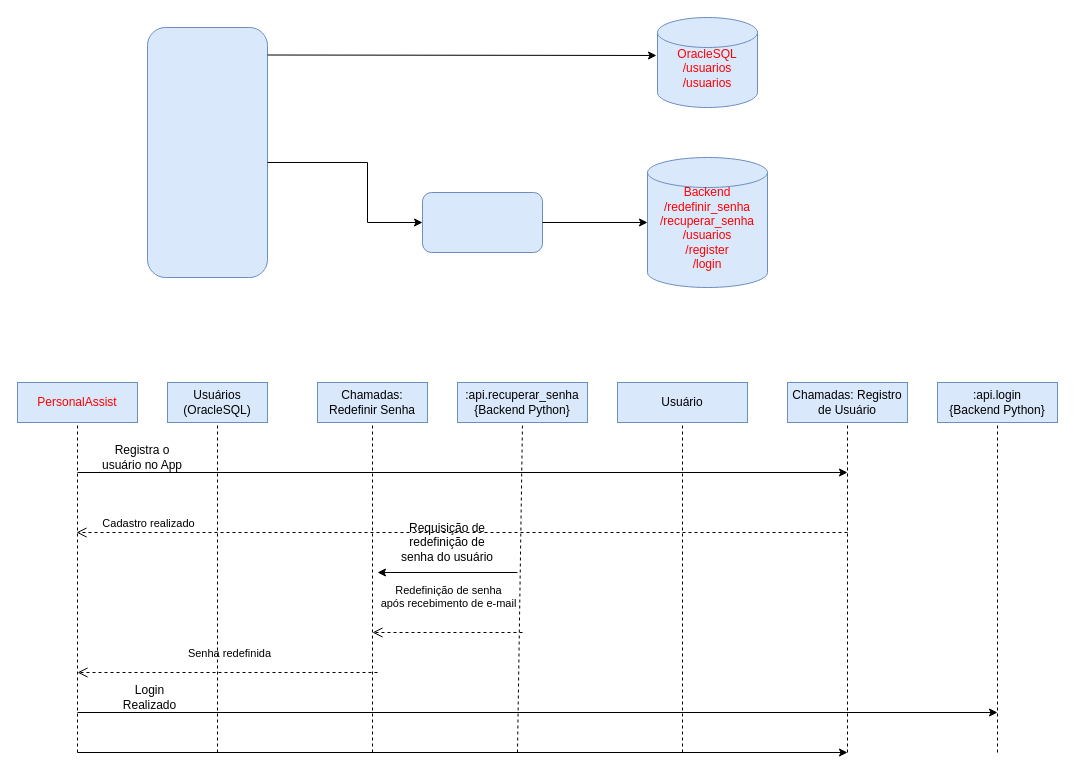
This 1075x778 diagram has some shape labels left out. Here are the shapes that lost their labels. From the top down, the box of each, then its label:
(146, 26, 268, 278): Mobile App PersonalAssist
(422, 192, 542, 252): BackEnd {Python}
